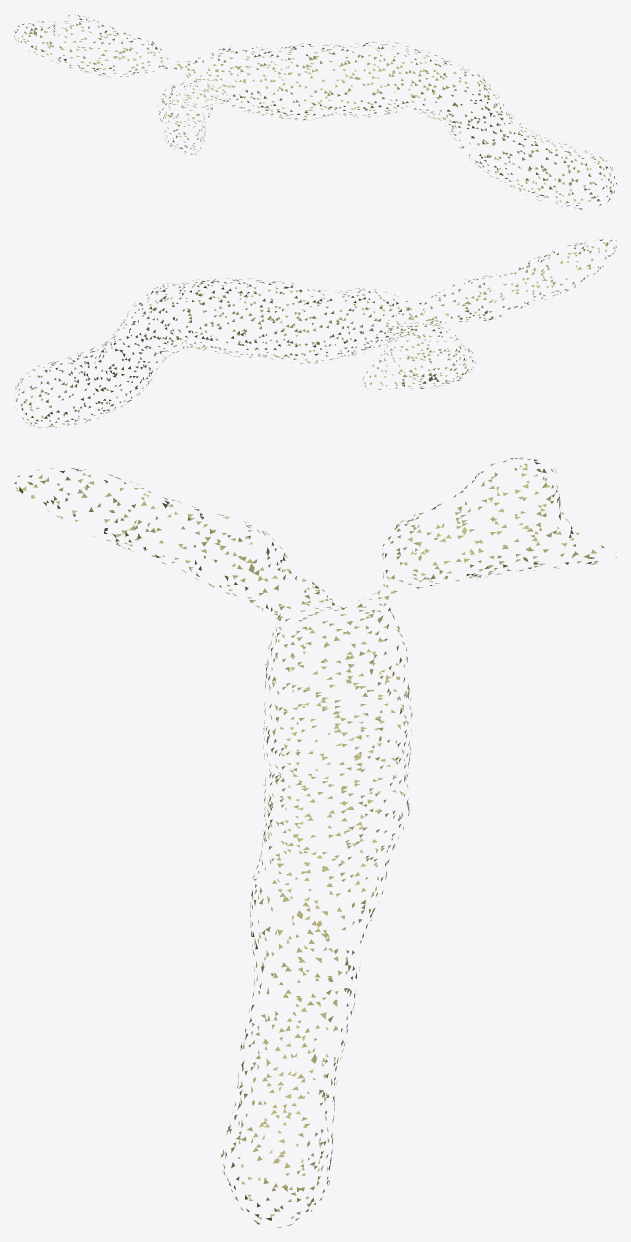
The model's file is morph_009.glb.
3 views of the same model, one above another, from view 1: azimuth 30°, elevation 25°; view 2: azimuth 150°, elevation 25°; view 3: azimuth 270°, elevation 25° (orthographic). The views are drawn at different scales.
Size of the model in its own units: 111 by 50.26 by 70.42.
